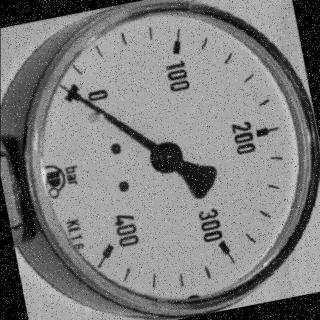gauge: (20, 0, 320, 320), (90, 229, 131, 273), (59, 76, 92, 114), (150, 140, 185, 174), (55, 80, 75, 96)
